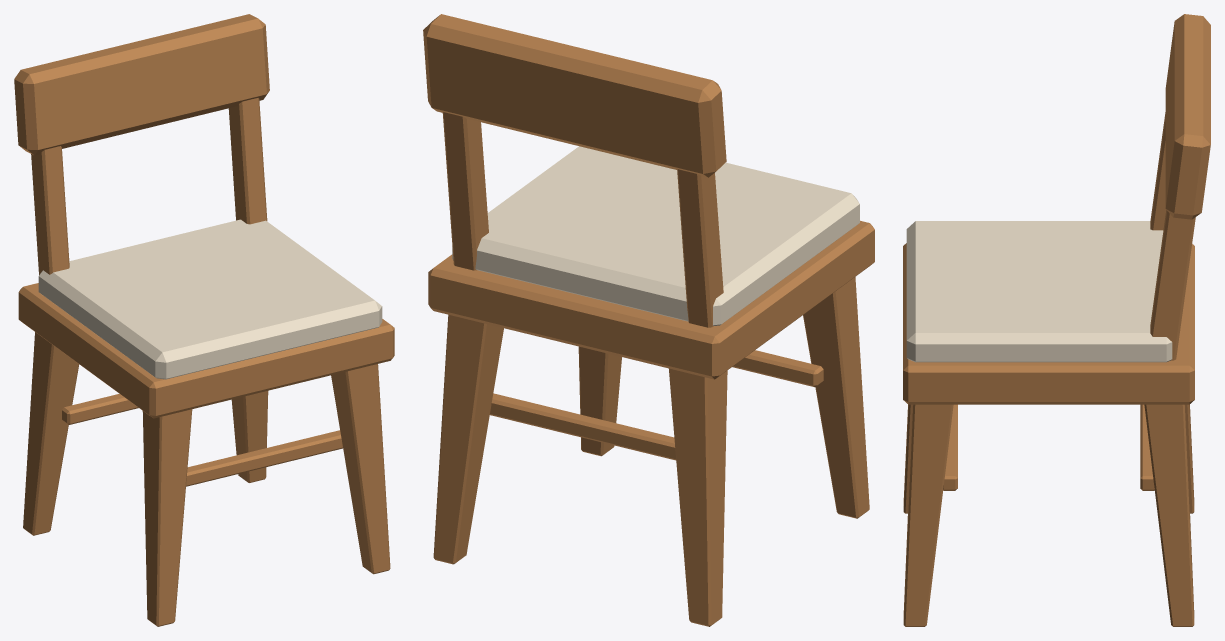
The model's file is 01_dining_chair.glb.
The picture shows the model from 3 angles, left to right: view 1: azimuth 30°, elevation 25°; view 2: azimuth 150°, elevation 25°; view 3: azimuth 270°, elevation 25°; orthographic projection. The views are drawn at different scales.
Visible parts, largest first — view 1: Cream_seat_pad, Sculpted_backrest, Seat_frame, Tapered_leg_00, Tapered_leg_01, Tapered_leg_02, Back_upright, Back_upright.001, Side_stretcher, Tapered_leg_03, Side_stretcher.001; view 2: Cream_seat_pad, Sculpted_backrest, Seat_frame, Tapered_leg_02, Tapered_leg_03, Tapered_leg_00, Back_upright, Back_upright.001, Side_stretcher.001, Tapered_leg_01, Side_stretcher; view 3: Cream_seat_pad, Seat_frame, Sculpted_backrest, Tapered_leg_03, Tapered_leg_01, Back_upright.001, Back_upright, Side_stretcher, Side_stretcher.001, Tapered_leg_02, Tapered_leg_00.
Part boxes in pixels (box(x1,y1,x2,y2)): Cream_seat_pad: box(38, 219, 382, 379); Sculpted_backrest: box(14, 14, 269, 155); Seat_frame: box(18, 283, 394, 418); Tapered_leg_00: box(142, 409, 192, 626); Tapered_leg_01: box(331, 364, 390, 574); Tapered_leg_02: box(23, 332, 79, 535); Back_upright: box(31, 146, 69, 274); Back_upright.001: box(228, 98, 267, 224); Side_stretcher: box(186, 430, 342, 486); Tapered_leg_03: box(231, 391, 268, 482); Side_stretcher.001: box(62, 394, 138, 424); Cream_seat_pad: box(452, 146, 859, 325); Sculpted_backrest: box(423, 14, 726, 177); Seat_frame: box(428, 220, 874, 379); Tapered_leg_02: box(668, 368, 727, 626); Tapered_leg_03: box(433, 314, 503, 564); Tapered_leg_00: box(803, 277, 869, 518); Back_upright: box(677, 169, 723, 327); Back_upright.001: box(442, 112, 488, 270); Side_stretcher.001: box(490, 393, 676, 460); Tapered_leg_01: box(578, 346, 621, 456); Side_stretcher: box(732, 350, 823, 387); Cream_seat_pad: box(906, 221, 1172, 362); Seat_frame: box(903, 243, 1194, 404); Sculpted_backrest: box(1165, 14, 1210, 219); Tapered_leg_03: box(1144, 404, 1194, 626); Tapered_leg_01: box(903, 404, 953, 626); Back_upright.001: box(1150, 210, 1195, 360); Back_upright: box(1150, 112, 1166, 230); Side_stretcher: box(943, 404, 957, 490); Side_stretcher.001: box(1140, 404, 1154, 490); Tapered_leg_02: box(1185, 404, 1194, 513); Tapered_leg_00: box(903, 404, 912, 513).
Bounding box in the file's own units: 0.46 × 0.8192 × 0.4641.
